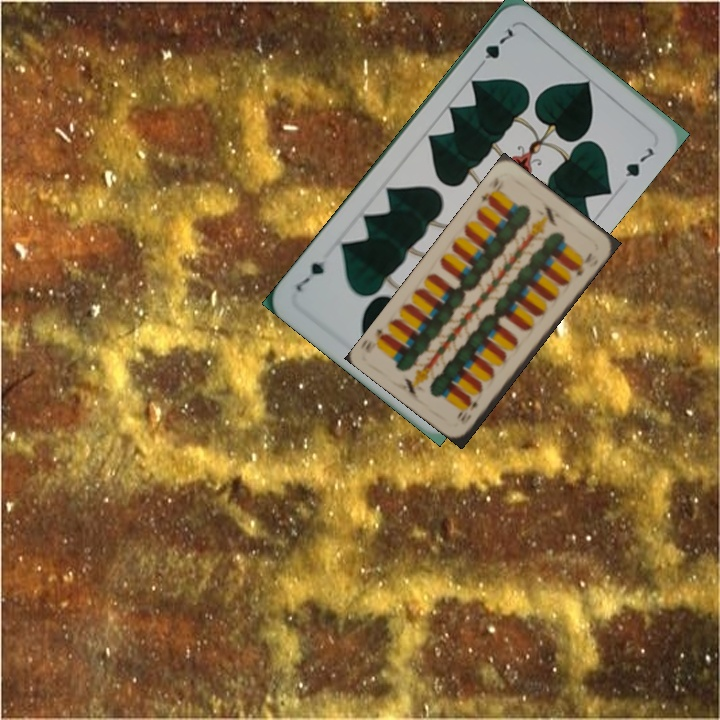E10: (477, 173, 502, 207), (456, 398, 480, 427)
G7: (472, 24, 516, 73)
